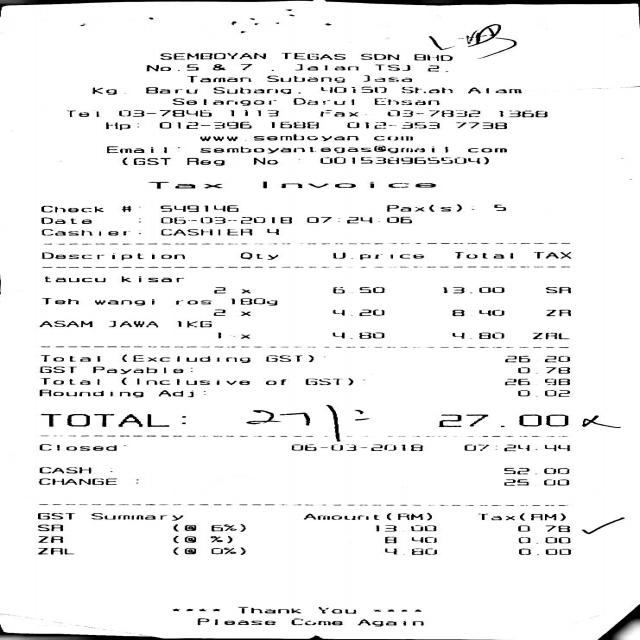text: (198, 145, 446, 154), (436, 413, 568, 428), (39, 413, 170, 428), (318, 156, 487, 164), (198, 134, 356, 142), (120, 354, 249, 363), (40, 252, 183, 260), (159, 216, 290, 224), (261, 182, 434, 188), (120, 377, 248, 385), (290, 444, 422, 451), (302, 511, 378, 523), (159, 52, 264, 60), (37, 389, 142, 397), (171, 98, 275, 106), (89, 512, 181, 521), (91, 366, 191, 374), (477, 512, 564, 521), (386, 203, 472, 212), (157, 121, 250, 129), (345, 121, 438, 129), (463, 444, 568, 451), (159, 228, 250, 236), (331, 252, 422, 260), (40, 228, 128, 236), (117, 110, 210, 117), (386, 110, 479, 117), (264, 75, 344, 83), (196, 617, 274, 625), (212, 87, 298, 94), (38, 444, 124, 451), (158, 205, 237, 212), (37, 478, 115, 485), (184, 75, 250, 83), (345, 216, 410, 224), (280, 52, 344, 60), (236, 606, 300, 614), (105, 146, 178, 153), (440, 286, 502, 294), (389, 511, 430, 523), (92, 298, 153, 306), (38, 377, 98, 385), (304, 378, 364, 386), (374, 524, 434, 532), (39, 354, 98, 362), (454, 251, 512, 259), (320, 86, 385, 93), (373, 98, 438, 105), (357, 619, 422, 626), (147, 182, 221, 188), (291, 98, 352, 105), (41, 205, 102, 212), (121, 275, 182, 282), (144, 86, 196, 94), (331, 286, 383, 294), (516, 366, 568, 374), (38, 466, 90, 474), (517, 536, 569, 544), (289, 618, 341, 626), (400, 86, 451, 94), (361, 74, 410, 82), (120, 157, 169, 165), (269, 121, 317, 129), (37, 320, 91, 327), (294, 64, 356, 70), (42, 276, 104, 282), (144, 64, 197, 71), (229, 298, 275, 306), (454, 122, 506, 129), (516, 390, 568, 397), (384, 536, 436, 543), (517, 548, 569, 555), (39, 217, 90, 224), (496, 110, 546, 117), (452, 309, 502, 316), (452, 332, 502, 339), (107, 320, 156, 327), (264, 355, 312, 362), (186, 157, 223, 166), (157, 390, 204, 397), (467, 87, 520, 93), (209, 523, 244, 532), (412, 53, 451, 61), (531, 251, 570, 259), (36, 512, 74, 520), (316, 606, 354, 614), (228, 110, 277, 116), (240, 252, 276, 260), (174, 320, 210, 328), (209, 547, 244, 555), (359, 53, 398, 60), (530, 332, 568, 339), (104, 122, 137, 130), (38, 366, 75, 373), (64, 110, 98, 117), (372, 135, 411, 141), (318, 110, 356, 116), (468, 147, 506, 153), (40, 298, 77, 304), (36, 548, 73, 554), (374, 64, 409, 70), (542, 478, 568, 486), (36, 535, 62, 543), (90, 87, 115, 95), (544, 286, 569, 294), (502, 478, 527, 486), (252, 156, 276, 164), (173, 300, 210, 305), (171, 524, 194, 532), (171, 535, 194, 543), (171, 547, 194, 555), (504, 378, 530, 385), (36, 524, 62, 531), (410, 548, 436, 555), (306, 216, 330, 223), (358, 309, 382, 316), (545, 309, 569, 316), (544, 378, 568, 385), (544, 467, 568, 474), (544, 525, 568, 532), (208, 536, 231, 543), (356, 332, 382, 338), (502, 356, 528, 362), (502, 468, 528, 474), (263, 378, 285, 385), (425, 65, 446, 72), (544, 356, 568, 362), (212, 286, 225, 294), (238, 288, 252, 295), (238, 310, 252, 317), (238, 333, 252, 340), (212, 308, 224, 316), (516, 524, 528, 532), (330, 309, 343, 316), (492, 204, 504, 211), (264, 228, 278, 234), (384, 548, 396, 555), (210, 64, 223, 70), (330, 332, 343, 338), (119, 205, 130, 212), (240, 63, 250, 70), (217, 332, 221, 339)
